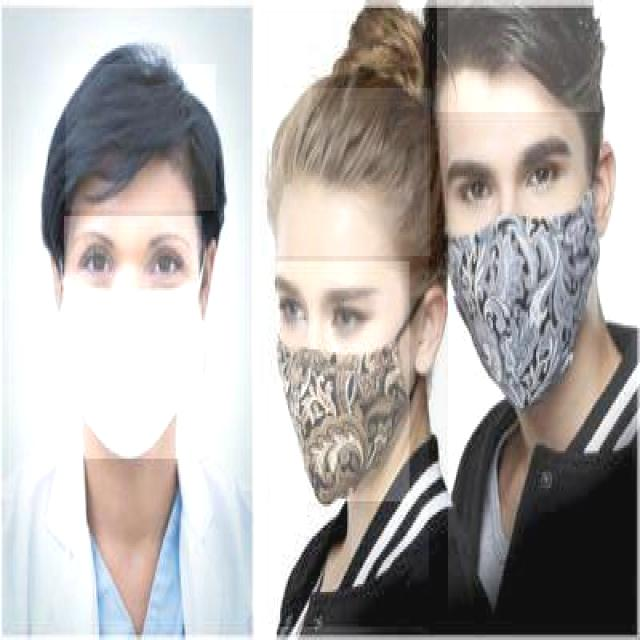face_mask: (445, 120, 598, 408), (62, 216, 202, 461), (275, 261, 410, 504)
head_nohelmet: (268, 88, 430, 259), (64, 64, 216, 213), (435, 0, 600, 115)
person: (2, 19, 242, 637), (427, 0, 632, 637), (258, 8, 448, 629)
